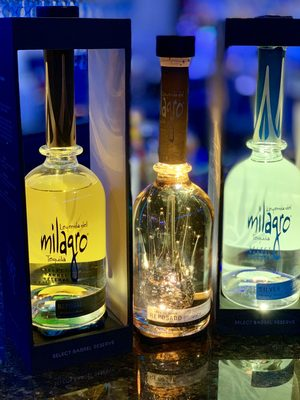pasta: (0, 15, 134, 352)
